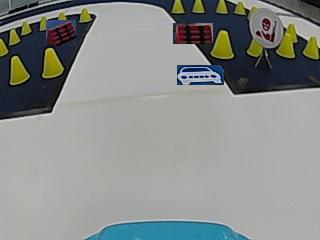evil: (248, 8, 282, 47)
